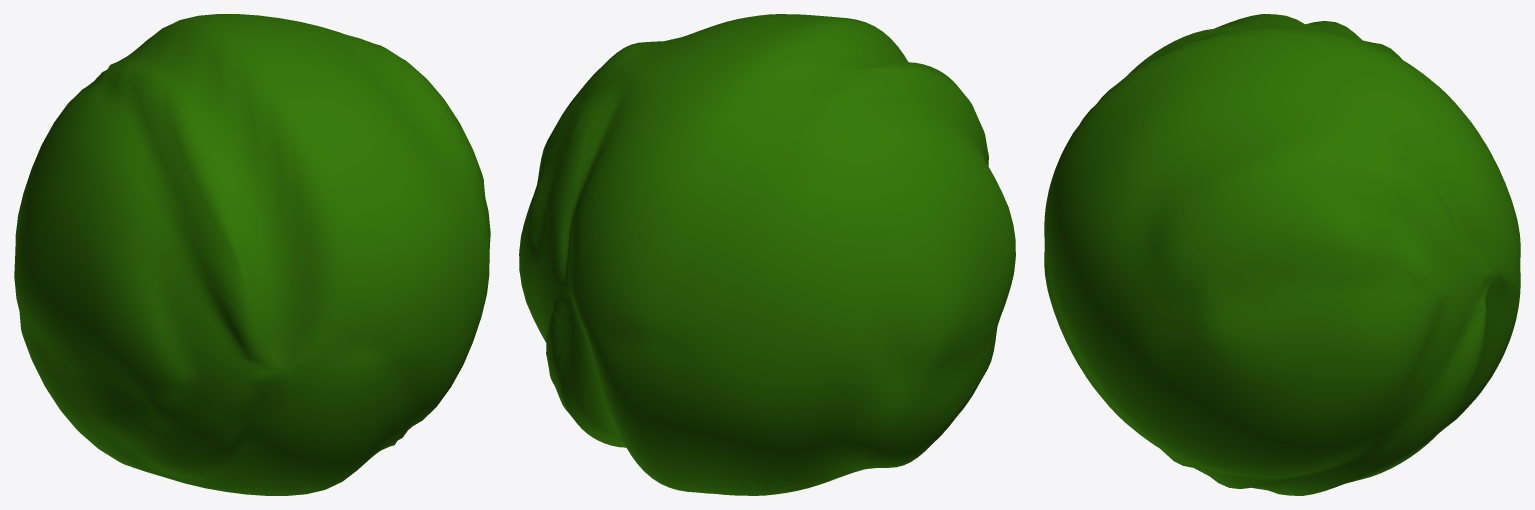
File: Slime_Ball_Mesh.fbx
The picture shows the model from 3 angles, left to right: view 1: azimuth 30°, elevation 25°; view 2: azimuth 150°, elevation 25°; view 3: azimuth 270°, elevation 25°; orthographic projection. The views are drawn at different scales.
Visible parts, largest first — view 1: Slime_Ball_Mesh; view 2: Slime_Ball_Mesh; view 3: Slime_Ball_Mesh.
Part boxes in pixels (left/top/right/bottom): Slime_Ball_Mesh: left=14, top=14, right=490, bottom=495; Slime_Ball_Mesh: left=519, top=14, right=1015, bottom=495; Slime_Ball_Mesh: left=1044, top=14, right=1520, bottom=495.
Size of the model in its own units: 1.99 by 2.01 by 2.05.
